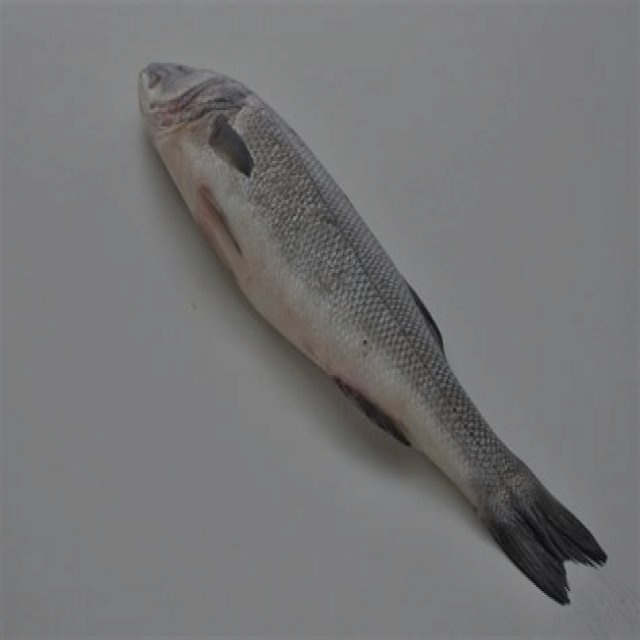Healthy Fish: (110, 48, 612, 605)
